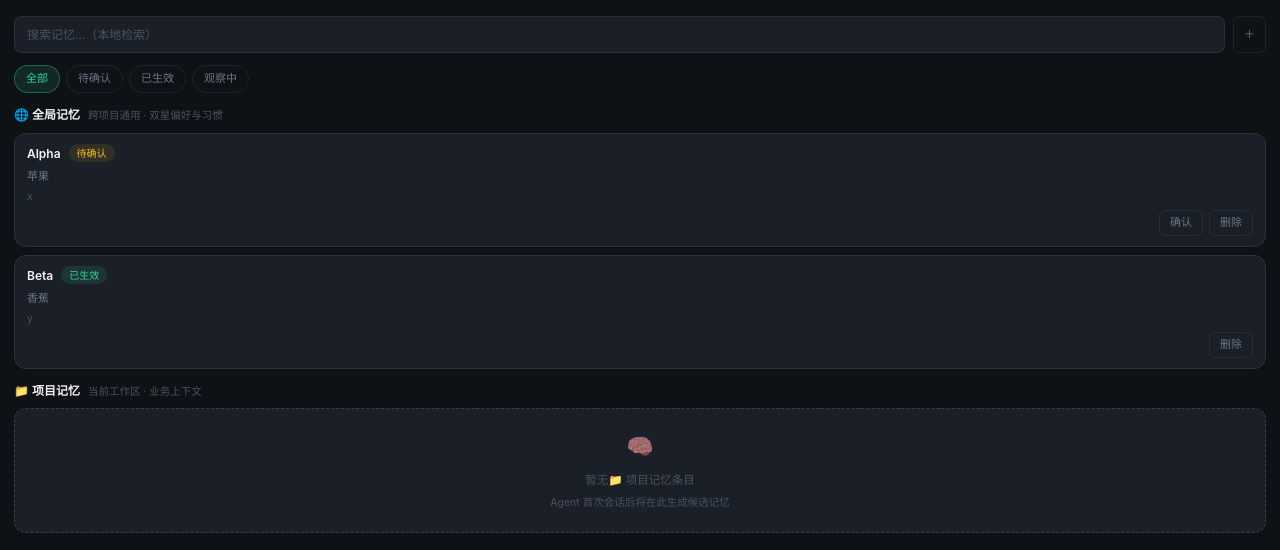
Test case: MemoryPanel › 搜索 + chips 过滤（标题/描述/预览包含搜索词）
This screenshot has width=1280, height=550.
Type "香蕉" into the field with class "search-row-input" at [620, 35], box x1=14 y1=16 x2=1225 y2=53
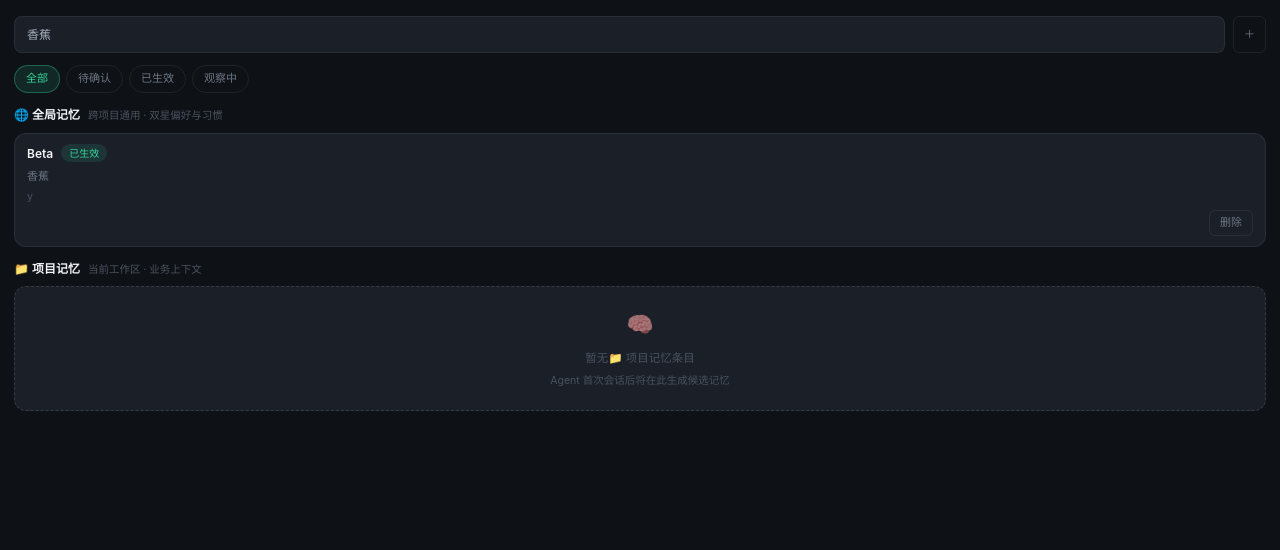
Expected: the text "Beta" is shown, x1=27 y1=144 x2=53 y2=163
Now the text "Alpha" is gone
Clear the field with class "search-row-input" at [620, 35], box x1=14 y1=16 x2=1225 y2=53
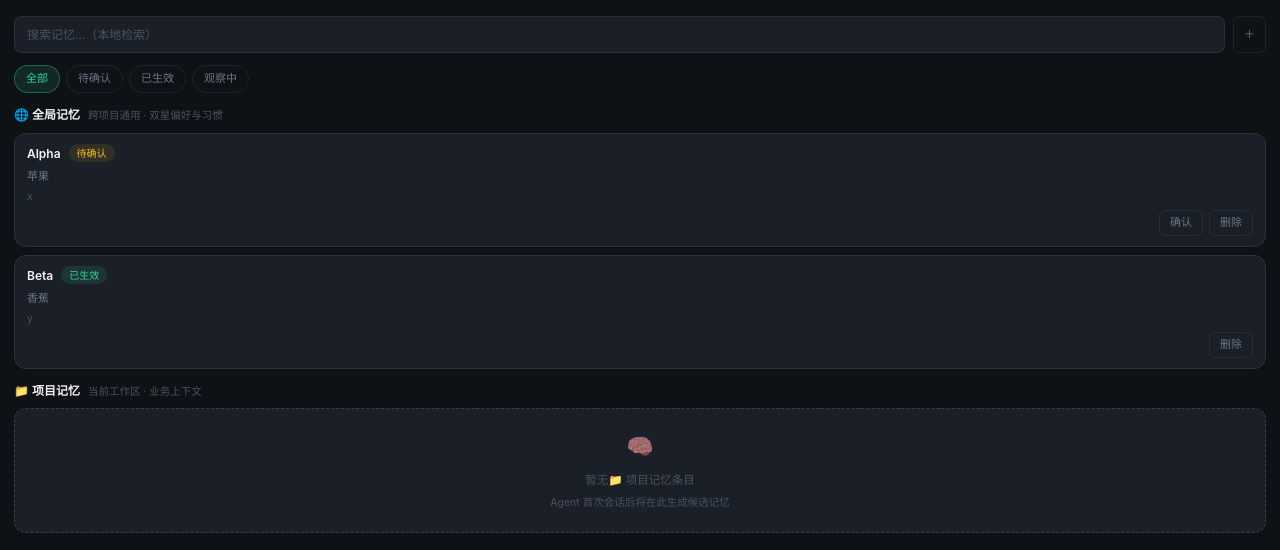
Click the button with class "chip" showing "待确认" at [94, 79], box x1=66 y1=65 x2=123 y2=93
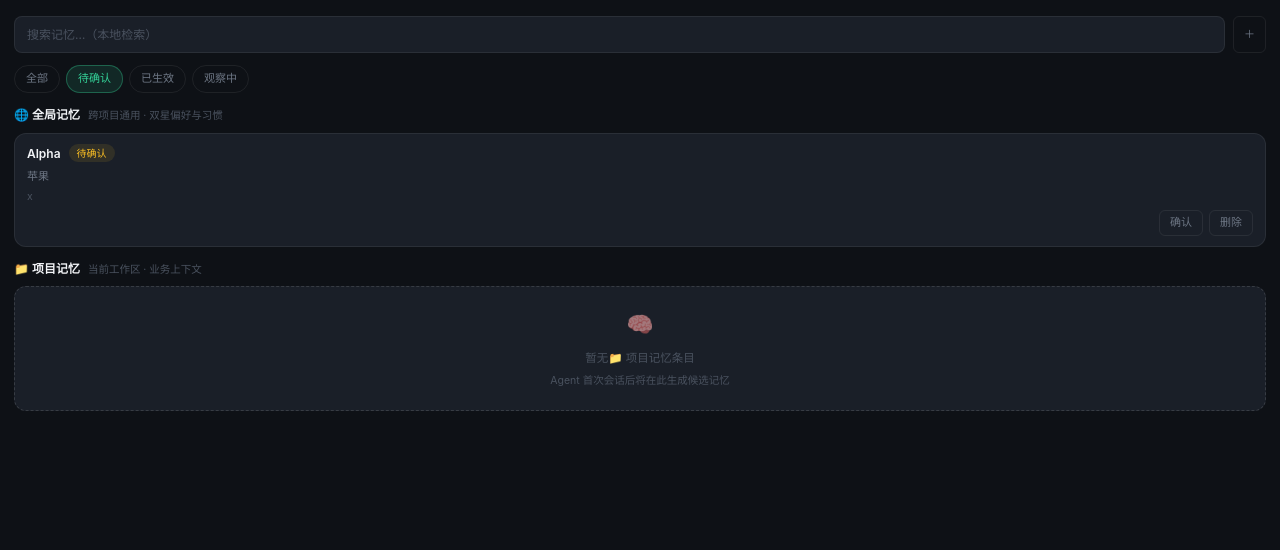
Now the text "Alpha" is shown, box x1=27 y1=144 x2=61 y2=163
Now the text "Beta" is gone
